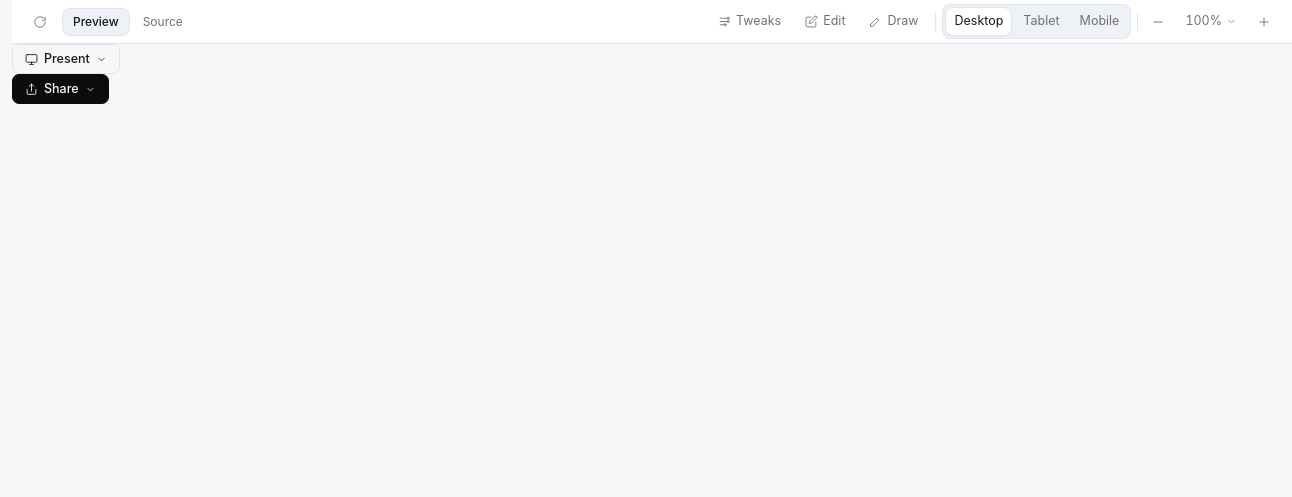
it: FileViewer SVG artifacts › shows one copy link when only one deployment provider has a URL
The width and height of the screenshot is (1292, 497).
Click the button "Share".
click(60, 89)  # box [12,74,109,104]
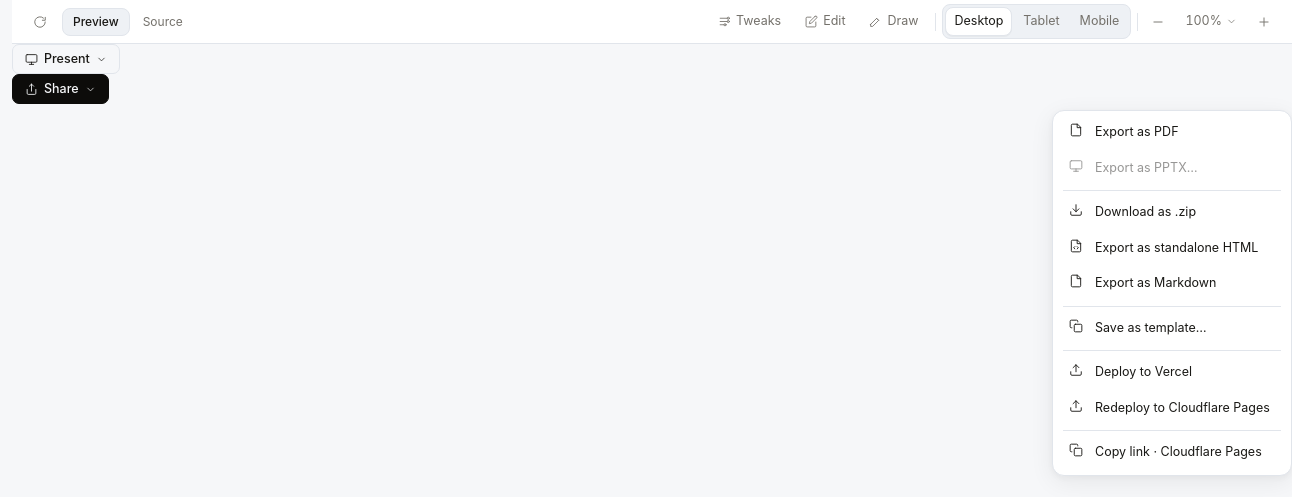
Expected: the menu item "Copy link · Cloudflare Pages" is shown, [1057,435,1287,470]
